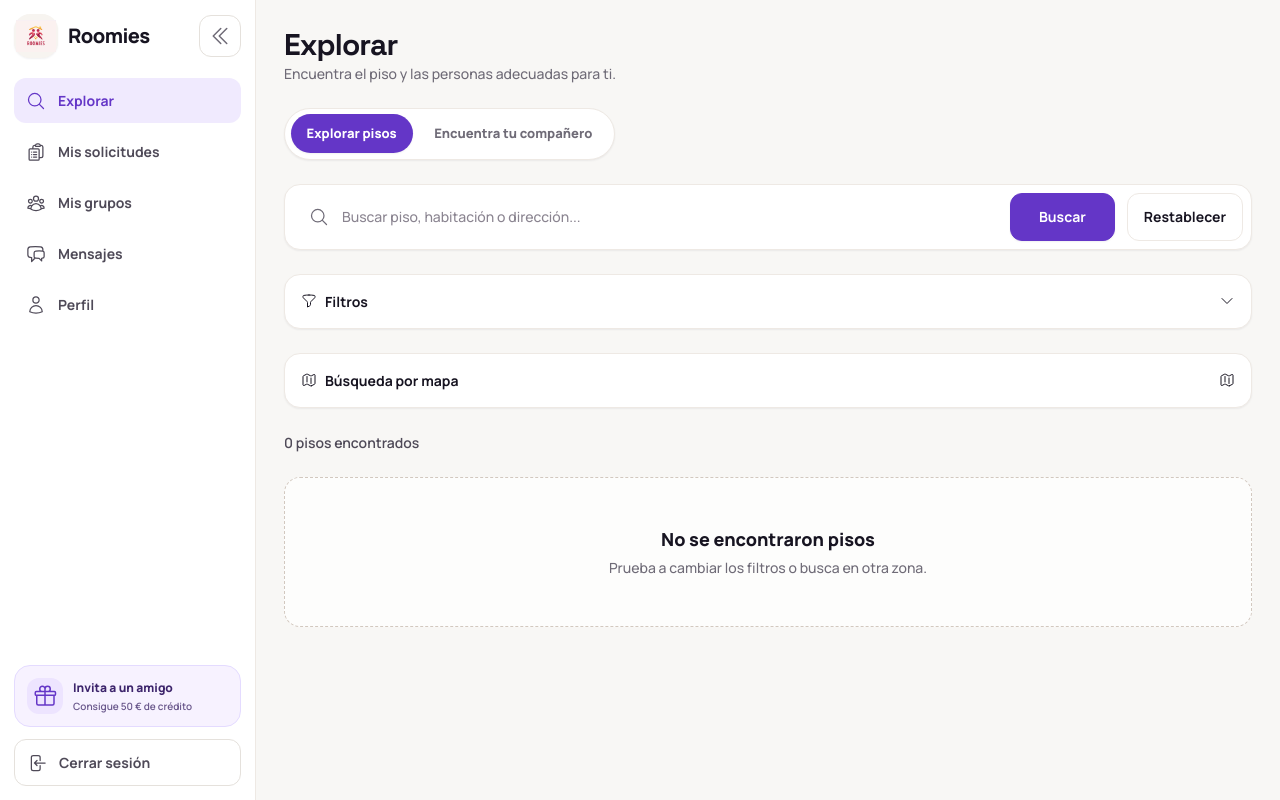
Test: AppRouter › tenant sidebar collapse toggle exposes its expanded state
Click the button named "ocultar menú".
click(220, 36)  # box [199,15,241,57]
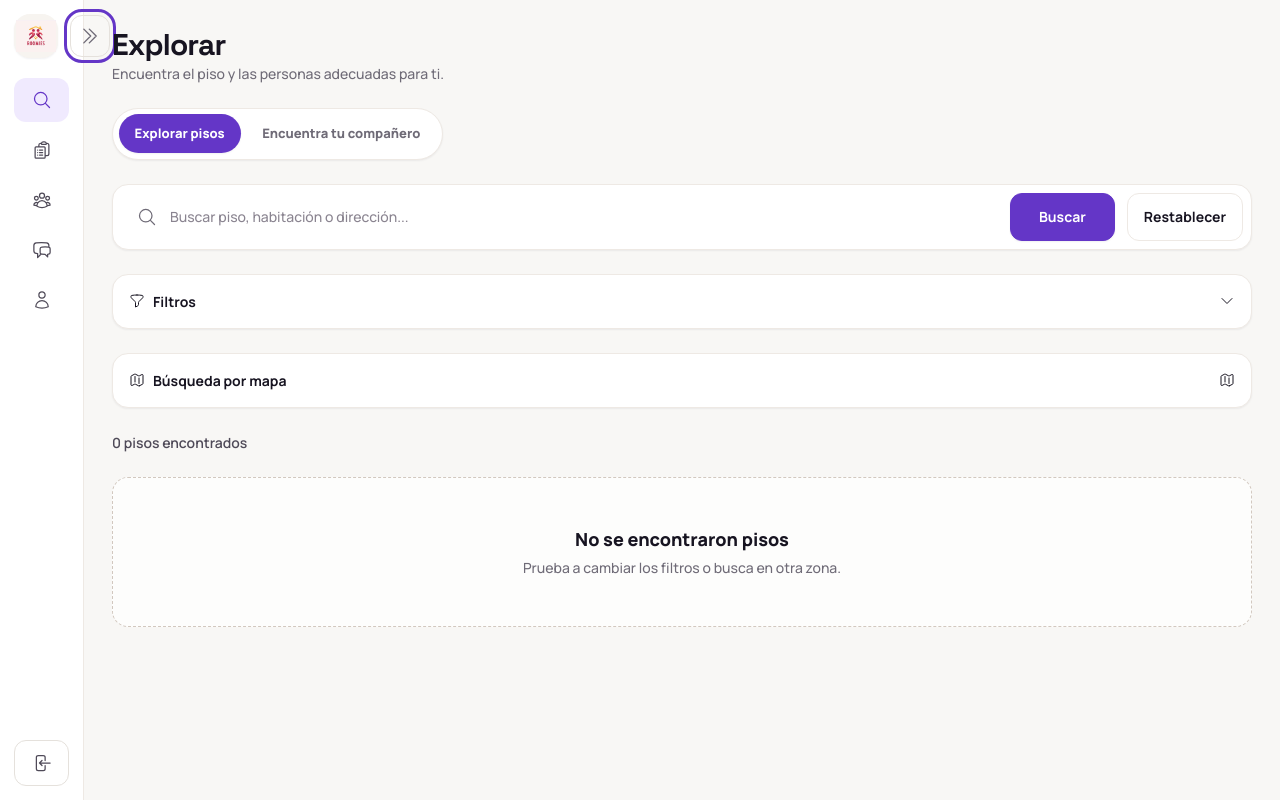
Expected: the button named "mostrar menú" is collapsed, [70,15,110,57]
